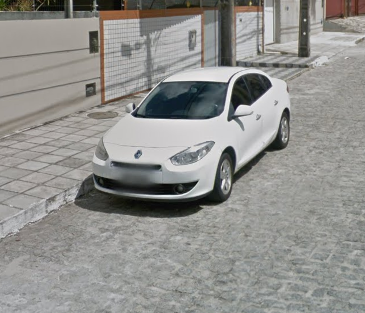car: (89, 63, 293, 206)
